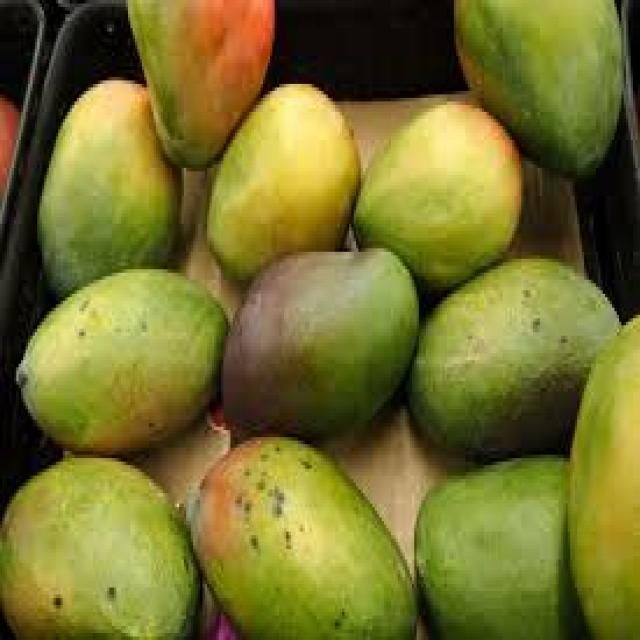mango: (182, 433, 424, 640), (411, 262, 617, 466), (18, 268, 227, 467), (221, 248, 421, 451), (0, 456, 204, 640), (361, 97, 527, 306), (37, 74, 182, 302), (414, 456, 593, 640), (201, 83, 369, 270), (455, 2, 625, 175), (563, 298, 640, 640), (129, 0, 274, 164)
